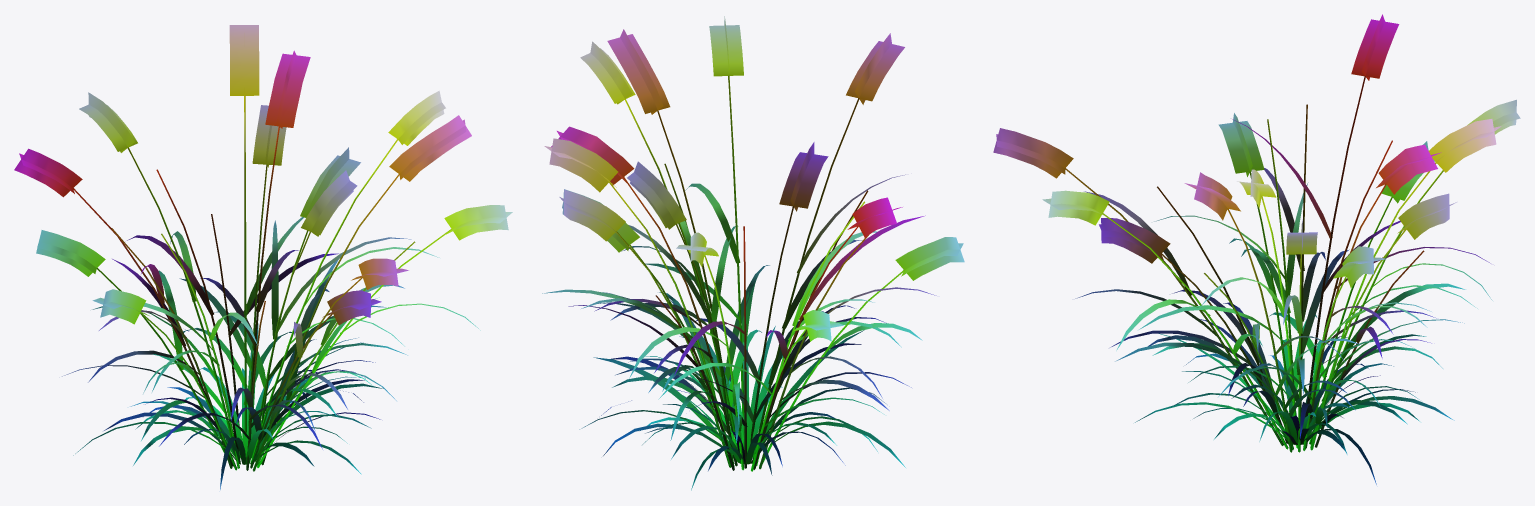
File: Grass_Barnyard_B_HD.fbx
3 renders of one model, left to right at view 1: azimuth 30°, elevation 25°; view 2: azimuth 150°, elevation 25°; view 3: azimuth 270°, elevation 25°, orthographic. The views are drawn at different scales.
Visible parts, largest first — view 1: Grass_Barnyard_B_HD_LOD0; view 2: Grass_Barnyard_B_HD_LOD0; view 3: Grass_Barnyard_B_HD_LOD0.
Boxes of the visible parts, x1,y1,x2,y2 form: Grass_Barnyard_B_HD_LOD0: [14, 25, 512, 489]; Grass_Barnyard_B_HD_LOD0: [542, 16, 964, 490]; Grass_Barnyard_B_HD_LOD0: [993, 14, 1520, 484].
Size of what is drawn, in the model's own units: 0.9356 by 0.8841 by 1.13.
